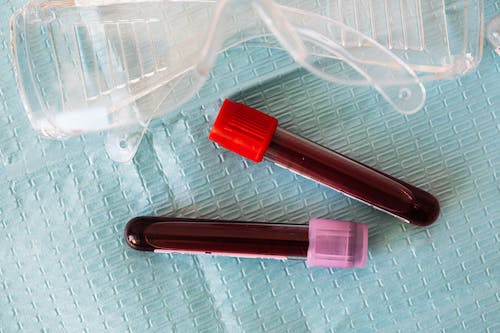blood: (263, 125, 441, 228), (125, 213, 310, 270)
